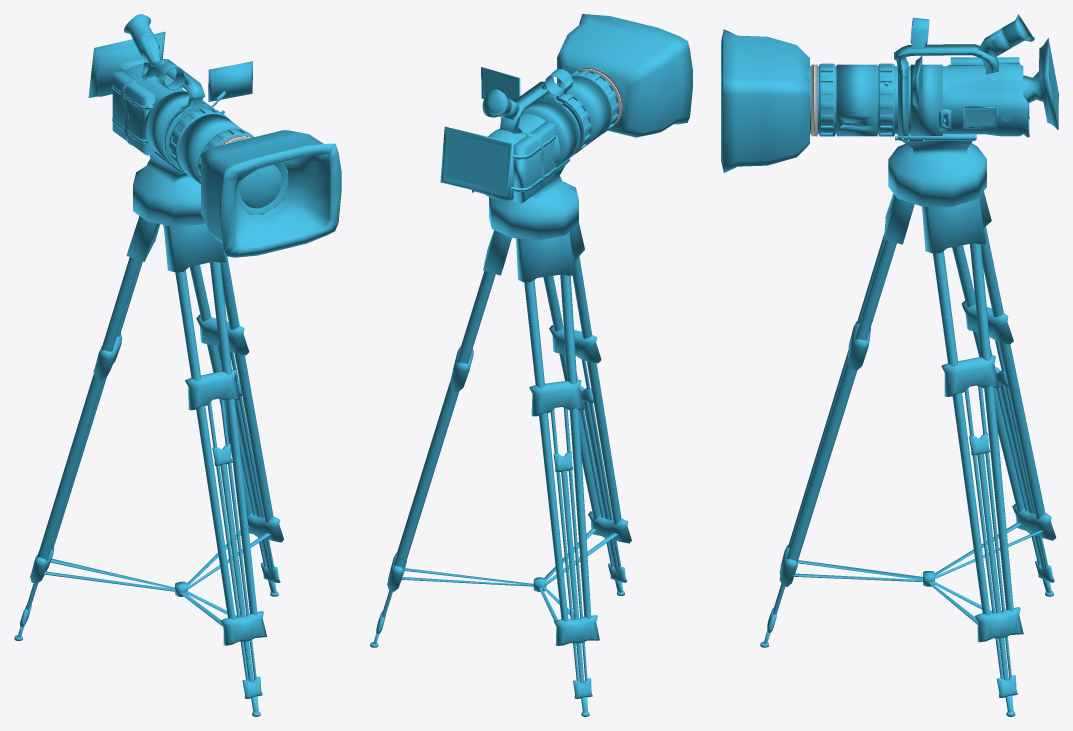
File: kamera.gltf
The picture shows the model from 3 angles, left to right: view 1: azimuth 30°, elevation 25°; view 2: azimuth 150°, elevation 25°; view 3: azimuth 270°, elevation 25°; orthographic projection. The views are drawn at different scales.
Parts seen in each view (by area): view 1: Cube.008, Cube, Cube.006, Cube.003, Cylinder, Cube.009, Cylinder.017, Cube.004, Cylinder.004, Cylinder.005, Cylinder.014, Cylinder.008 (+3 smaller); view 2: Cube.003, Cube, Cube.008, Cube.006, Cylinder.017, Cube.009, Cylinder, Cylinder.004, Cube.004, Cylinder.005, Cylinder.008, Cylinder.014 (+4 smaller); view 3: Cube.006, Cube, Cube.003, Cube.008, Cylinder, Cube.009, Cylinder.004, Cylinder.005, Cube.004, Cylinder.008, Cylinder.017, Cylinder.002 (+3 smaller).
Boxes of the visible parts, x1,y1,x2,y2 form: Cube.008: (163, 217, 266, 716); Cube: (201, 130, 341, 257); Cube.006: (189, 244, 283, 596); Cube.003: (14, 216, 159, 640); Cylinder: (112, 63, 288, 214); Cube.009: (133, 154, 205, 226); Cylinder.017: (88, 31, 165, 98); Cube.004: (43, 526, 270, 626); Cylinder.004: (177, 114, 242, 183); Cylinder.005: (141, 59, 214, 165); Cylinder.014: (208, 61, 252, 101); Cylinder.008: (146, 91, 210, 161); Cube.003: (516, 232, 599, 716); Cube: (557, 14, 692, 137); Cube.008: (543, 223, 631, 595); Cube.006: (370, 230, 511, 647); Cylinder.017: (440, 126, 513, 198); Cube.009: (489, 165, 578, 240); Cylinder: (485, 67, 604, 203); Cylinder.004: (557, 76, 610, 146); Cube.004: (401, 527, 617, 620); Cylinder.005: (499, 81, 582, 157); Cylinder.008: (522, 101, 576, 167); Cylinder.014: (481, 67, 520, 100); Cube.006: (922, 197, 1023, 716); Cube: (721, 29, 809, 172); Cube.003: (952, 191, 1056, 596); Cube.008: (760, 193, 914, 647); Cylinder: (805, 57, 1028, 136); Cube.009: (888, 141, 986, 206); Cylinder.004: (836, 64, 877, 136); Cylinder.005: (894, 44, 998, 135); Cube.004: (792, 522, 1043, 624); Cylinder.008: (910, 64, 942, 135); Cylinder.017: (1023, 38, 1058, 129); Cylinder.002: (878, 63, 894, 136).
Size of the model in its own units: 10.13 by 24.14 by 11.67.
